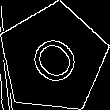O_SE: (20, 26, 86, 92)
